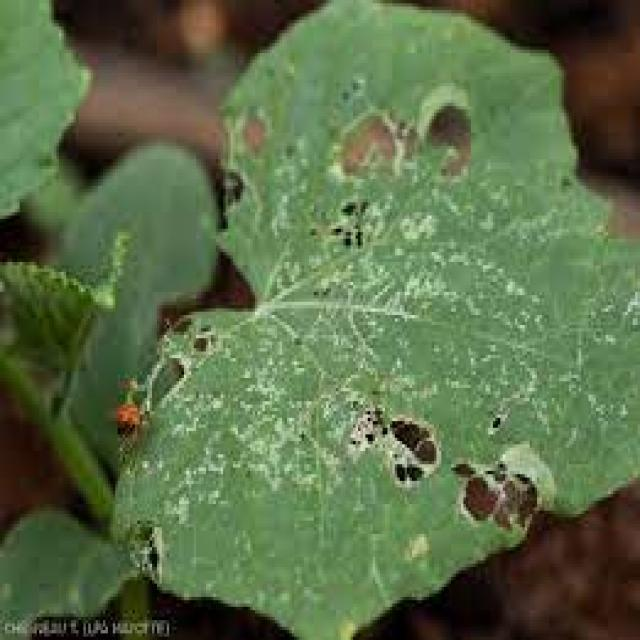Pumpkin Beetle: (332, 378, 560, 548), (310, 78, 500, 260), (213, 76, 276, 252), (126, 489, 194, 583), (100, 362, 158, 458), (181, 310, 227, 372)
